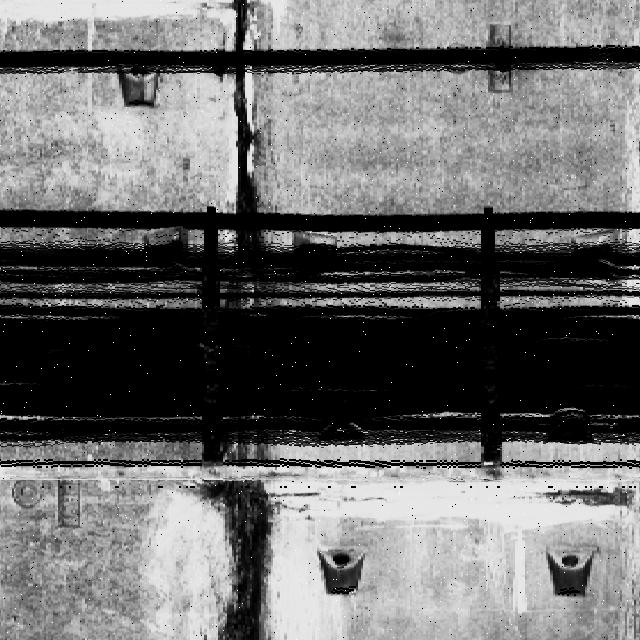leakage: (189, 442, 285, 640), (223, 2, 266, 261)
